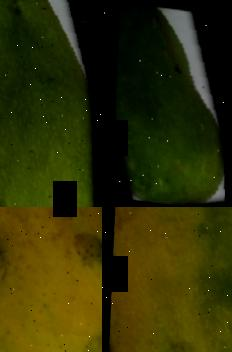PartiallyRipe: (102, 207, 232, 352)
Ripe: (0, 207, 102, 352)
Unripe: (102, 0, 232, 207), (0, 0, 102, 207)
